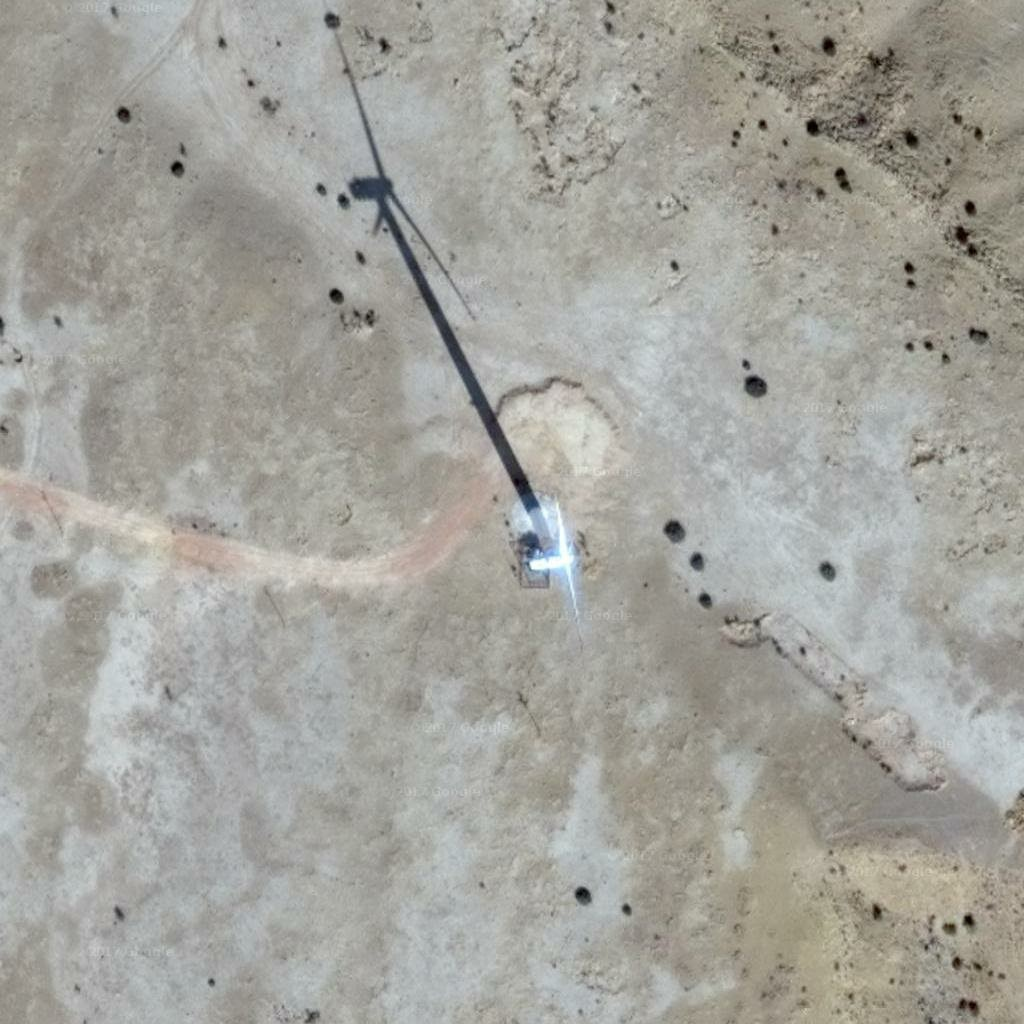Windmill: (328, 54, 548, 504)
